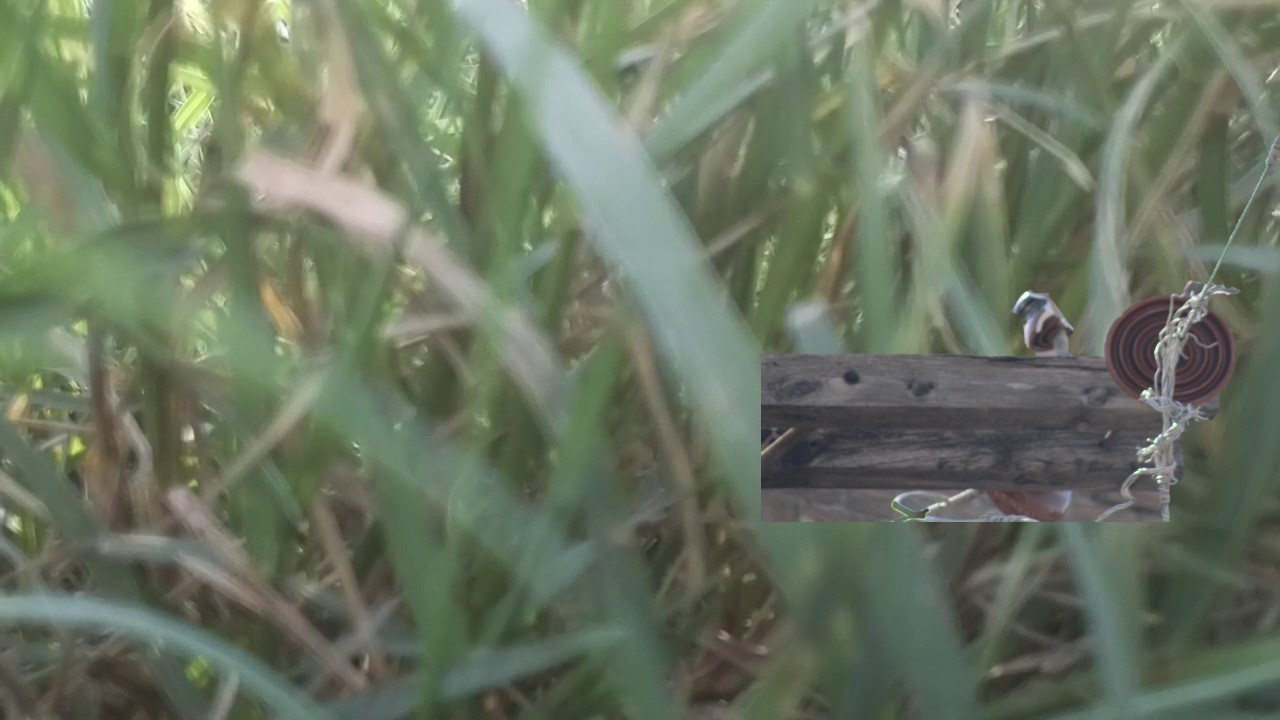defect_pin: (1006, 276, 1080, 363)
insulator_disc: (1102, 288, 1238, 412)
